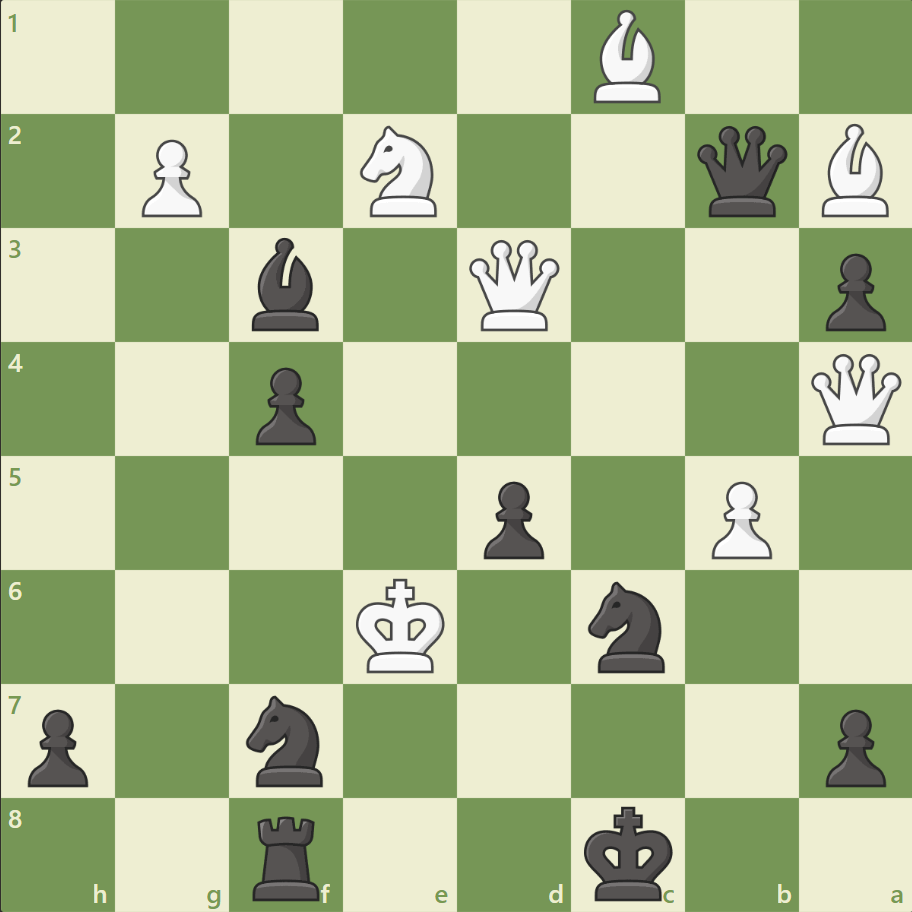B: (585, 6, 669, 109), (812, 120, 896, 222)
K: (351, 571, 451, 679)
N: (351, 121, 449, 223)
P: (701, 473, 776, 564), (133, 132, 208, 223)
Q: (805, 349, 904, 449), (464, 236, 563, 335)
b: (244, 233, 328, 336)
k: (579, 798, 679, 906)
n: (238, 688, 335, 791), (579, 575, 676, 677)
p: (20, 700, 95, 791), (474, 473, 549, 564), (247, 359, 322, 450), (815, 700, 889, 791), (815, 246, 889, 337)
q: (691, 122, 790, 222)
r: (246, 806, 329, 904)
